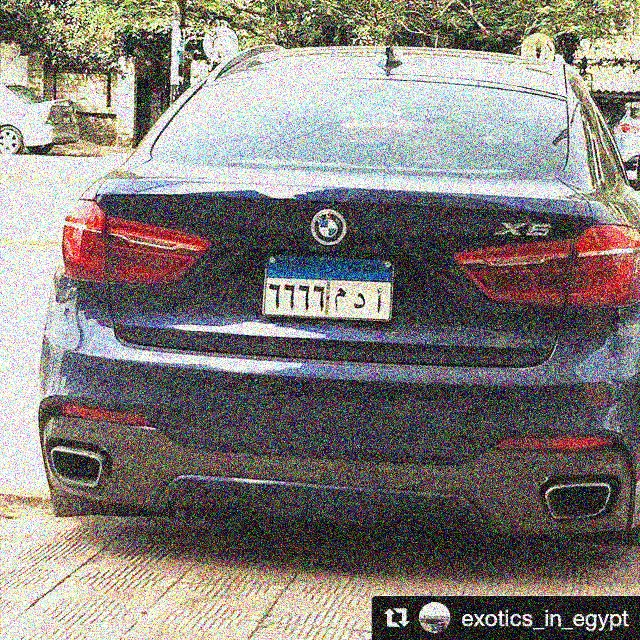License Plate: (257, 252, 401, 324)
